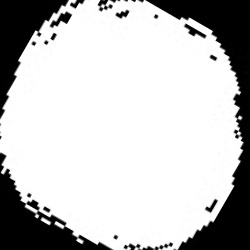spot: (2, 2, 243, 248)
